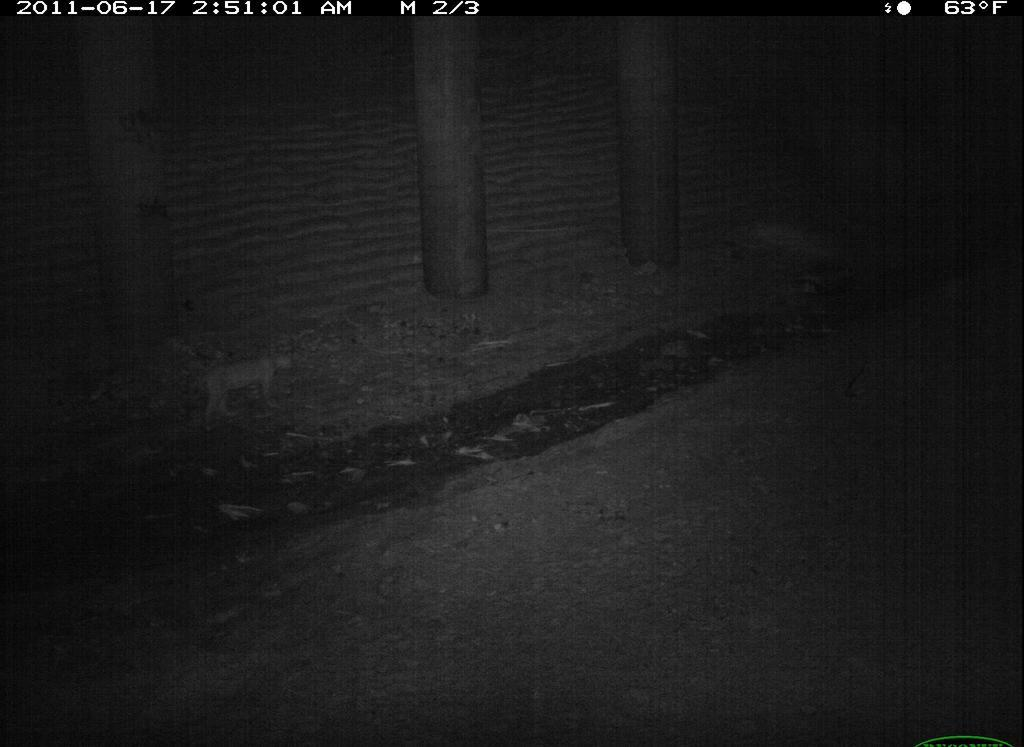bobcat: (379, 682, 603, 747)
